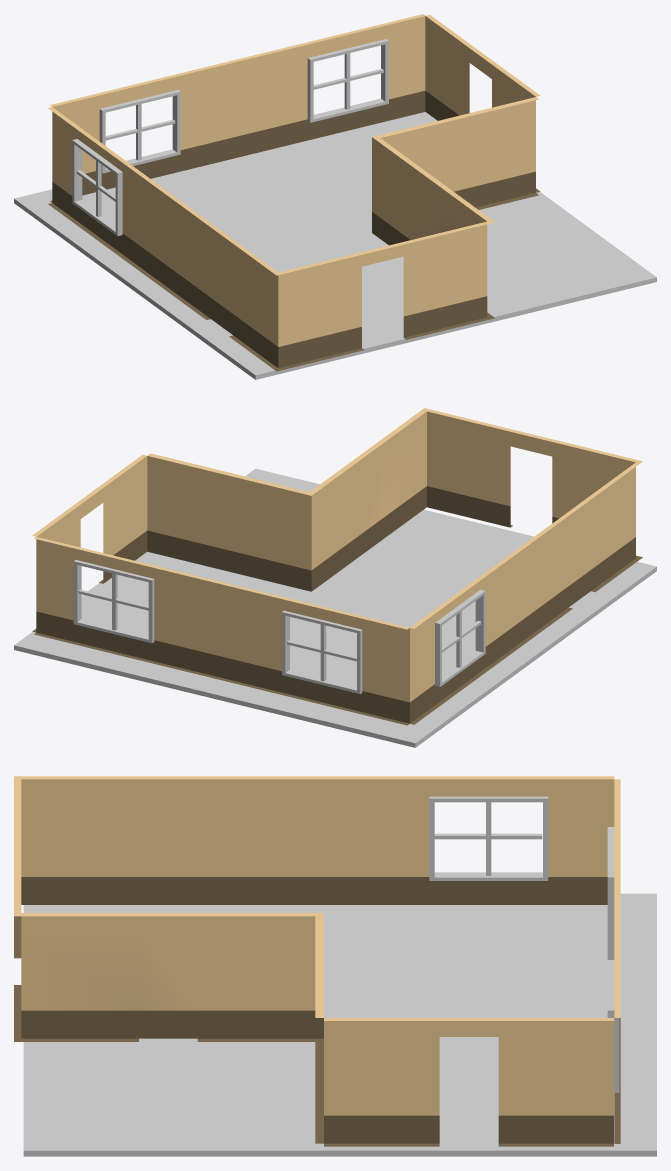
The model's file is lobby.fbx.
3 views of the same model, one above another, from view 1: azimuth 30°, elevation 25°; view 2: azimuth 150°, elevation 25°; view 3: azimuth 270°, elevation 25° (orthographic). The views are drawn at different scales.
Visible parts, largest first — view 1: Cube.006, Cube.003, Cube.001, VENTANA, VENTANA.001, VENTANA.002, VENTANA.005, VENTANA.003, Cube.004, Cube.007, Cube.008; view 2: Cube.006, Cube.003, Cube.001, VENTANA, VENTANA.002, VENTANA.001, Cube.007, VENTANA.005, Cube.004, VENTANA.004, VENTANA.003, Cube.008; view 3: Cube.006, Cube.003, Cube.001, VENTANA.002, VENTANA.005, Cube.008, VENTANA.001, VENTANA.
Boxes of the visible parts, box(x1,y1,x2,y2) form: Cube.006: box(48, 14, 540, 346); Cube.003: box(14, 112, 656, 379); Cube.001: box(48, 90, 540, 371); VENTANA: box(307, 39, 388, 122); VENTANA.001: box(99, 90, 180, 173); VENTANA.002: box(72, 139, 122, 235); VENTANA.005: box(73, 145, 122, 235); VENTANA.003: box(310, 40, 388, 121); Cube.004: box(313, 53, 383, 109); Cube.007: box(105, 104, 175, 160); Cube.008: box(76, 160, 115, 216); Cube.006: box(32, 408, 642, 702); Cube.003: box(14, 468, 656, 747); Cube.001: box(32, 486, 642, 725); VENTANA: box(73, 560, 154, 642); VENTANA.002: box(435, 589, 485, 686); VENTANA.001: box(282, 610, 362, 694); Cube.007: box(287, 624, 356, 681); VENTANA.005: box(435, 591, 485, 684); Cube.004: box(78, 573, 148, 630); VENTANA.004: box(282, 612, 362, 689); VENTANA.003: box(75, 562, 154, 643); Cube.008: box(442, 611, 481, 667); Cube.006: box(14, 776, 620, 1115); Cube.003: box(23, 893, 656, 1156); Cube.001: box(14, 877, 620, 1146); VENTANA.002: box(429, 796, 548, 880); VENTANA.005: box(429, 796, 548, 880); Cube.008: box(434, 802, 542, 875); VENTANA.001: box(607, 827, 614, 959); VENTANA: box(607, 960, 619, 1092).
Size of the model in its own units: 1816 by 444 by 1922.
